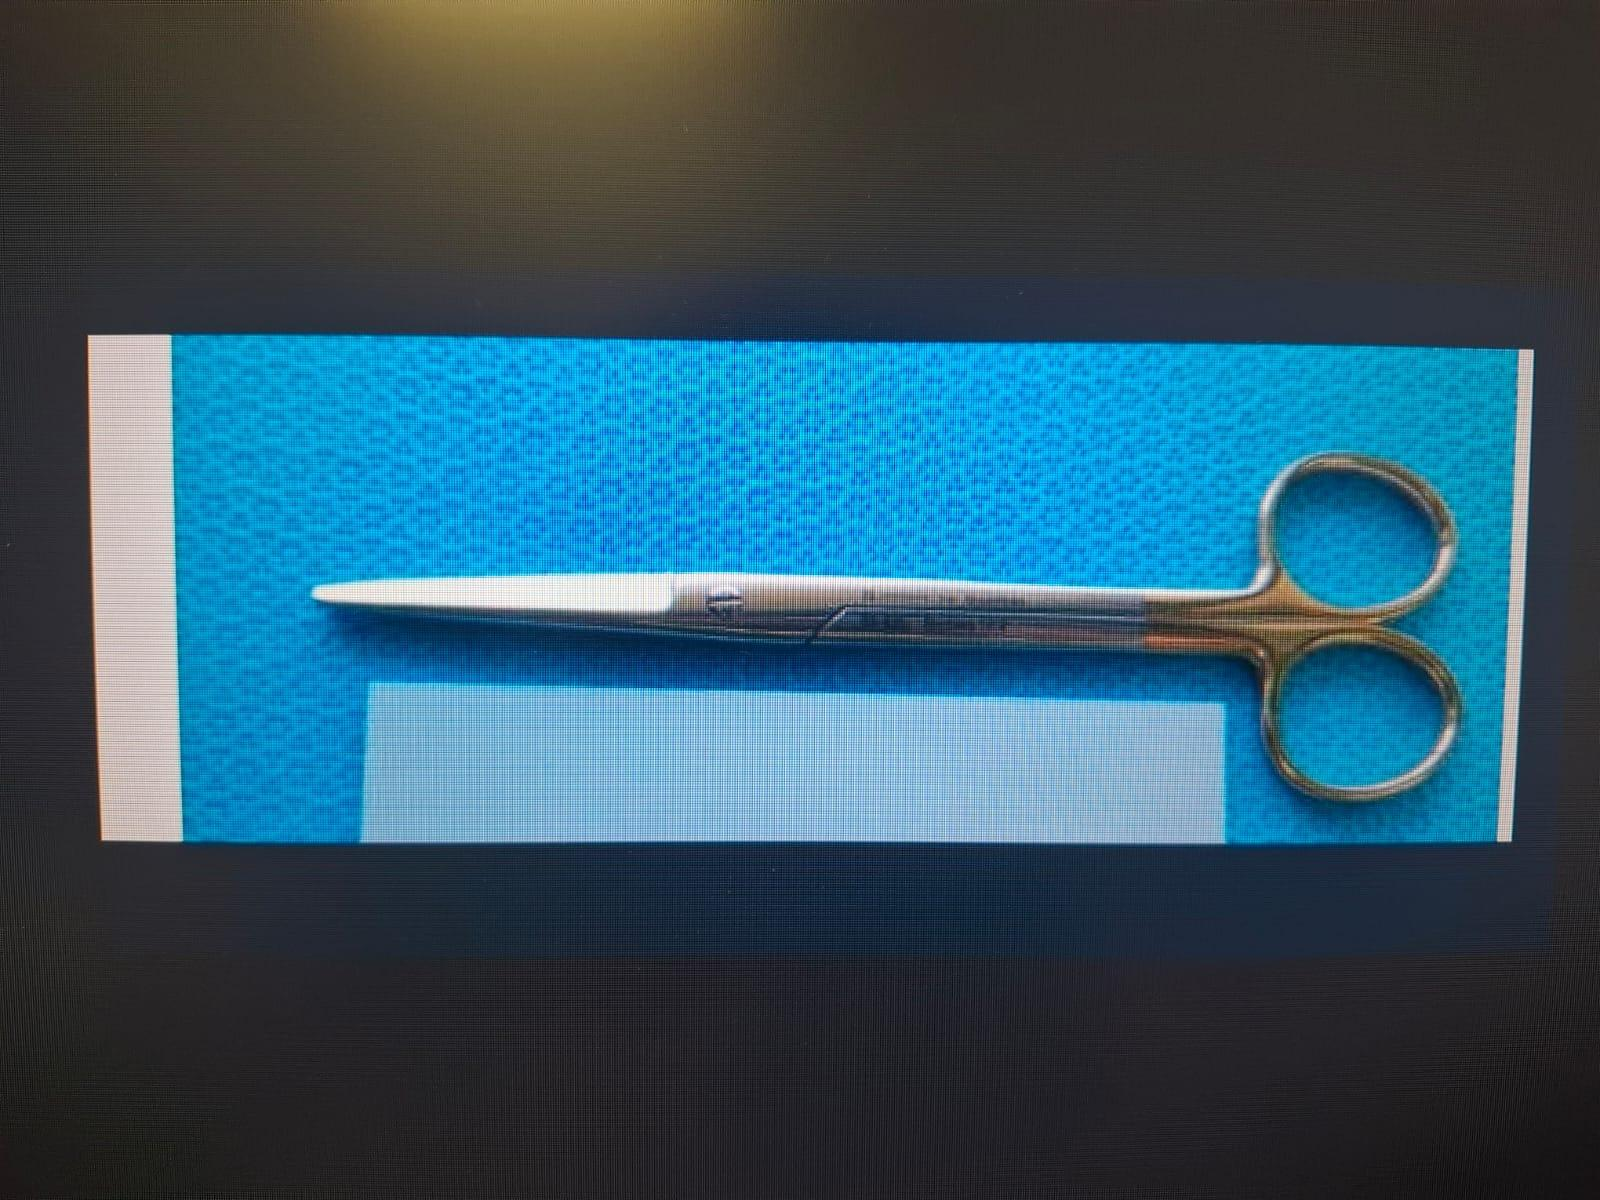Straight Mayo: (299, 444, 1466, 802)
